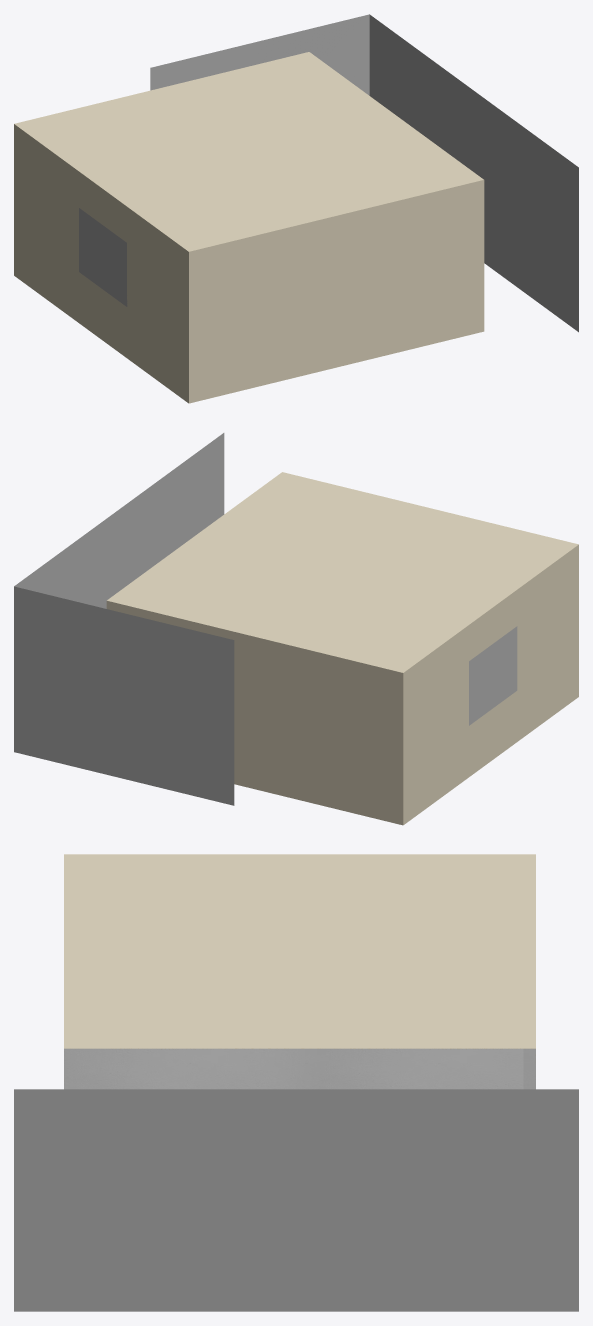
3 renders of one model, top to bottom at view 1: azimuth 30°, elevation 25°; view 2: azimuth 150°, elevation 25°; view 3: azimuth 270°, elevation 25°, orthographic. The views are drawn at different scales.
Visible parts, largest first — view 1: Paredes, PlanosExterior, PlanoDia; view 2: Paredes, PlanosExterior, PlanoDia; view 3: PlanosExterior, Paredes, paredfalsa.
Part boxes in pixels (x1,y1,x2,y2): Paredes: [14, 52, 484, 403]; PlanosExterior: [150, 14, 578, 332]; PlanoDia: [79, 208, 126, 306]; Paredes: [106, 472, 578, 825]; PlanosExterior: [14, 433, 234, 805]; PlanoDia: [469, 626, 517, 725]; PlanosExterior: [14, 1089, 578, 1311]; Paredes: [64, 854, 535, 1080]; paredfalsa: [64, 1048, 535, 1089].
Bounding box in the file's own units: 7.79 × 3.3 × 7.6.
15 materials, 7 textured.
